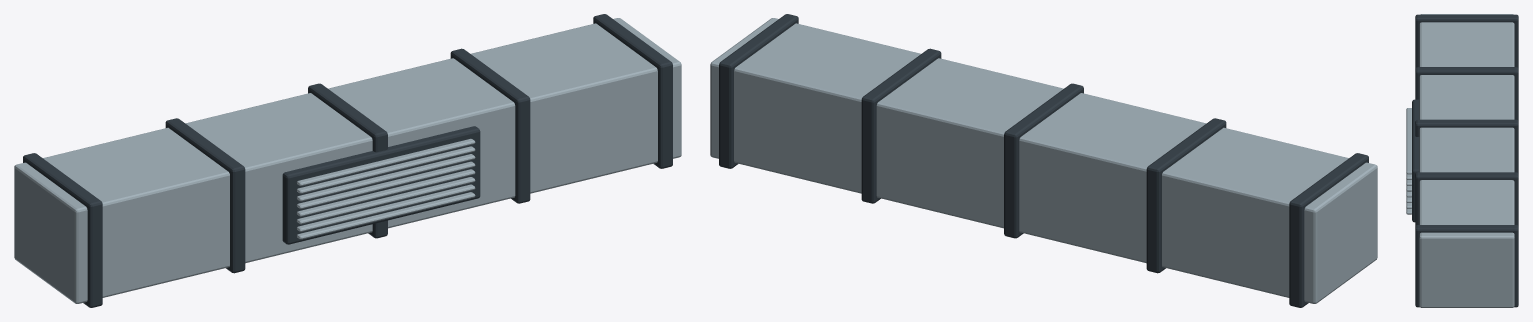
Rendered from vent-duct.glb.
The picture shows the model from 3 angles, left to right: view 1: azimuth 30°, elevation 25°; view 2: azimuth 150°, elevation 25°; view 3: azimuth 270°, elevation 25°; orthographic projection. The views are drawn at different scales.
Parts seen in each view (by area): view 1: Galvanised duct, Grille, Joint band.003, Joint band.001, Joint band, Joint band.004, Joint band.002, Slat.003, Slat.006, Slat, Slat.005, Slat.007 (+3 smaller); view 2: Galvanised duct, Joint band.003, Joint band.001, Joint band, Joint band.002, Joint band.004; view 3: Galvanised duct, Joint band.004, Joint band, Joint band.003, Joint band.002, Joint band.001, Grille, Slat.007.
Part boxes in pixels (box(x1,y1,x2,y2)): Galvanised duct: box(14, 18, 681, 303); Grille: box(282, 126, 480, 244); Joint band.003: box(450, 48, 530, 203); Joint band.001: box(165, 118, 245, 273); Joint band: box(23, 153, 102, 307); Joint band.004: box(593, 14, 672, 168); Joint band.002: box(308, 83, 387, 238); Slat.003: box(296, 169, 475, 216); Slat.006: box(296, 146, 475, 193); Slat: box(296, 192, 475, 239); Slat.005: box(296, 154, 475, 201); Slat.007: box(296, 138, 475, 185); Galvanised duct: box(710, 18, 1377, 303); Joint band.003: box(861, 48, 941, 203); Joint band.001: box(1146, 118, 1226, 273); Joint band: box(1289, 153, 1368, 307); Joint band.002: box(1004, 83, 1083, 238); Joint band.004: box(719, 14, 798, 168); Galvanised duct: box(1419, 14, 1514, 307); Joint band.004: box(1415, 225, 1518, 307); Joint band: box(1415, 14, 1518, 68); Joint band.003: box(1415, 172, 1518, 226); Joint band.002: box(1415, 119, 1518, 173); Joint band.001: box(1415, 67, 1518, 120); Grille: box(1412, 99, 1419, 222); Slat.007: box(1406, 108, 1411, 174).
Size of the model in its own units: 2 by 0.33 by 0.4245.
